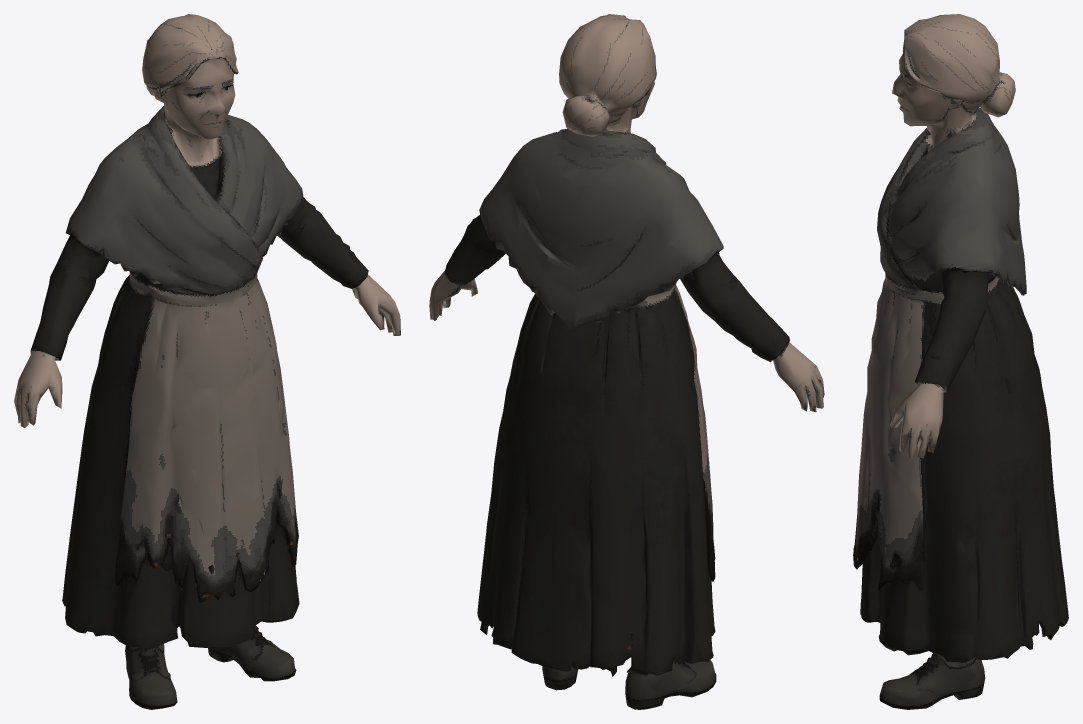
The model's file is remedios.glb.
The picture shows the model from 3 angles, left to right: view 1: azimuth 30°, elevation 25°; view 2: azimuth 150°, elevation 25°; view 3: azimuth 270°, elevation 25°; orthographic projection. The views are drawn at different scales.
Parts seen in each view (by area): view 1: tripo_node_9a73a1d4-a8d9-4a58-b26a-5b7aa3594767; view 2: tripo_node_9a73a1d4-a8d9-4a58-b26a-5b7aa3594767; view 3: tripo_node_9a73a1d4-a8d9-4a58-b26a-5b7aa3594767.
Boxes of the visible parts, <box> form: tripo_node_9a73a1d4-a8d9-4a58-b26a-5b7aa3594767: <box>14,14,400,709</box>; tripo_node_9a73a1d4-a8d9-4a58-b26a-5b7aa3594767: <box>429,14,824,709</box>; tripo_node_9a73a1d4-a8d9-4a58-b26a-5b7aa3594767: <box>853,14,1068,709</box>.
Bounding box in the file's own units: 0.6077 × 1 × 0.2987.
Materials: 1 (1 with a texture image).
